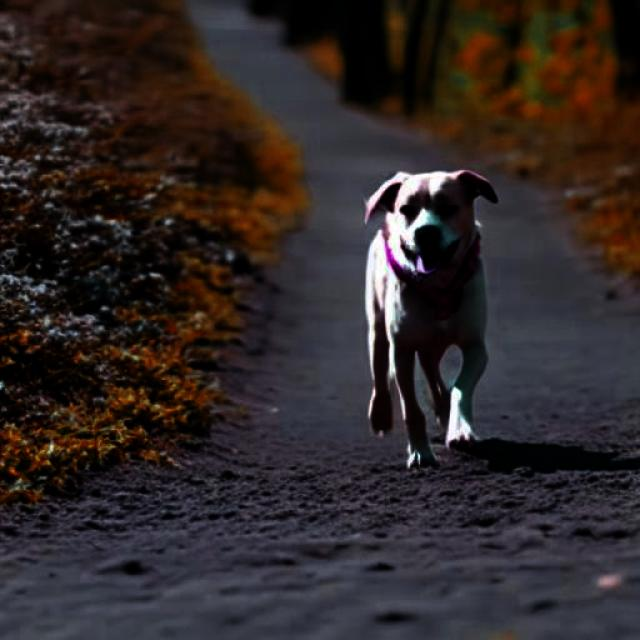Dog: (363, 168, 498, 471)
